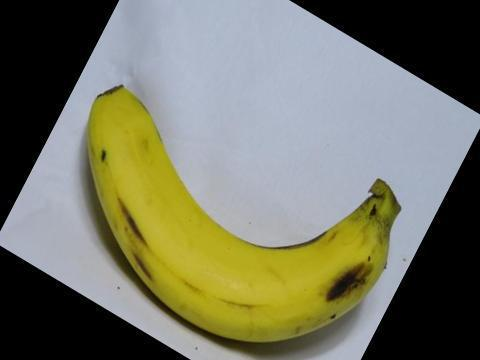freshripe: (72, 77, 408, 351)
